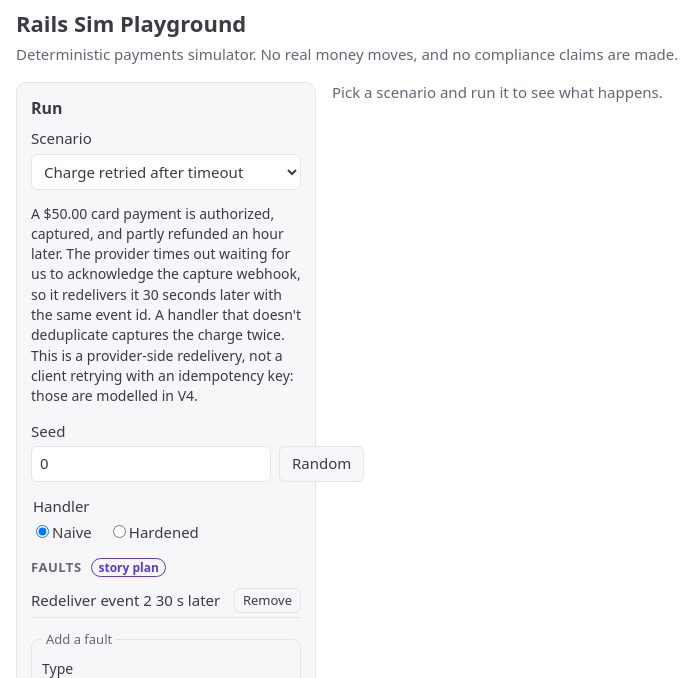
Test: inputs › picking a scenario shows its description and story
This screenshot has width=695, height=678.
Step 1. Select "Refund arrives before capture" in the dropdown labelled "Scenario" → [166, 172], box [31,154,301,190]
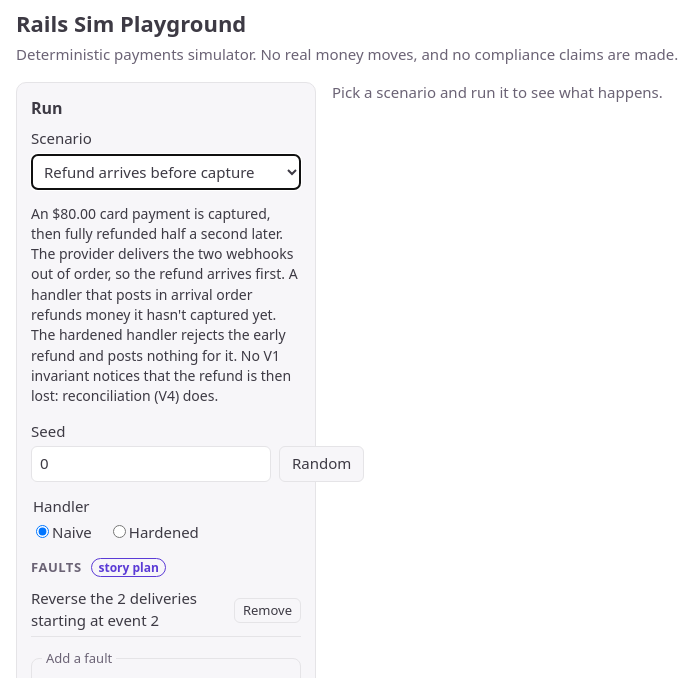
Now the text "the refund arrives first" is shown, box [31,204,298,405]
Now the text "Reverse the 2 deliveries starting at event 2" is shown, box [31,588,226,632]
